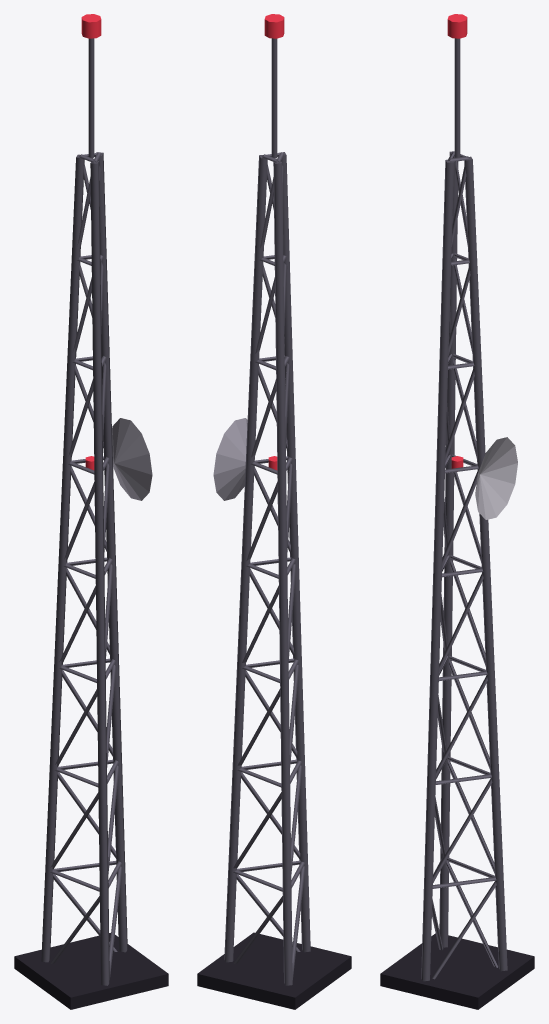
The model's file is antenna.glb.
3 renders of one model, left to right at view 1: azimuth 30°, elevation 25°; view 2: azimuth 150°, elevation 25°; view 3: azimuth 330°, elevation 25°, orthographic.
Parts seen in each view (by area): view 1: Mast, Neon_ff3348; view 2: Mast, Neon_ff3348; view 3: Mast, Neon_ff3348.
Boxes of the visible parts, left/top/right/bottom form: Mast: left=14, top=38, right=168, bottom=1009; Neon_ff3348: left=81, top=14, right=101, bottom=470; Mast: left=197, top=38, right=351, bottom=1009; Neon_ff3348: left=264, top=14, right=284, bottom=470; Mast: left=380, top=38, right=534, bottom=1009; Neon_ff3348: left=447, top=14, right=467, bottom=468.
Size of the model in its own units: 1 by 9.37 by 1.
